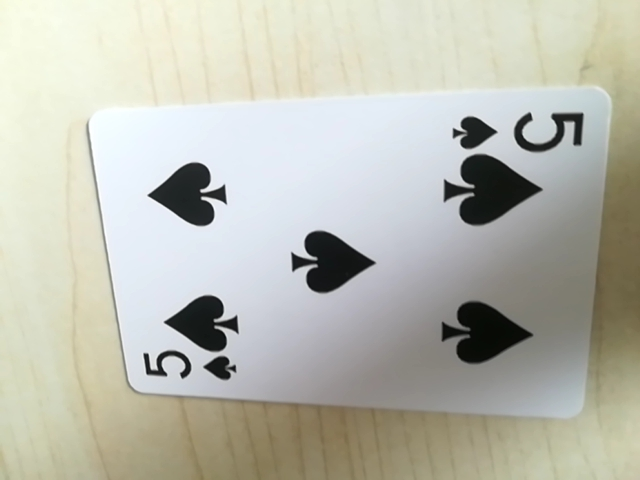ht 5: (450, 101, 587, 156), (135, 344, 241, 393)
